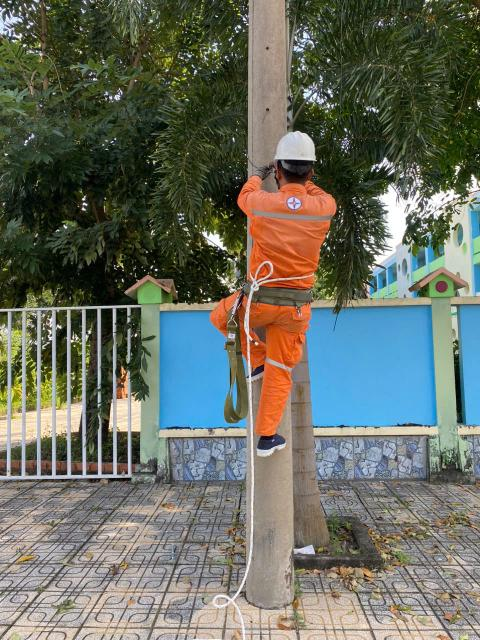gloves: (247, 158, 278, 186)
harness: (233, 270, 327, 317)
helmet: (267, 128, 328, 167)
shoes: (246, 427, 296, 461), (240, 351, 275, 383)
